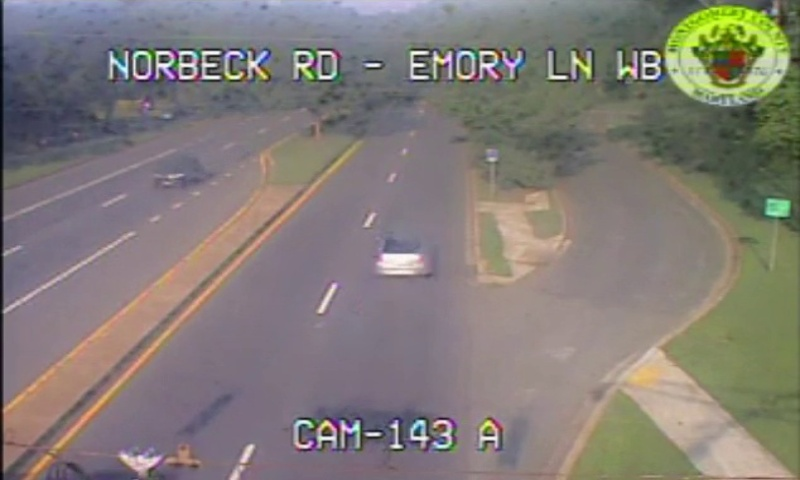car: (376, 233, 431, 276)
